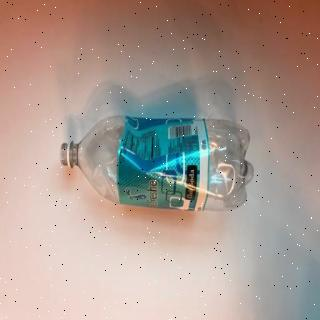Plastic-bottle: (60, 114, 256, 215)
